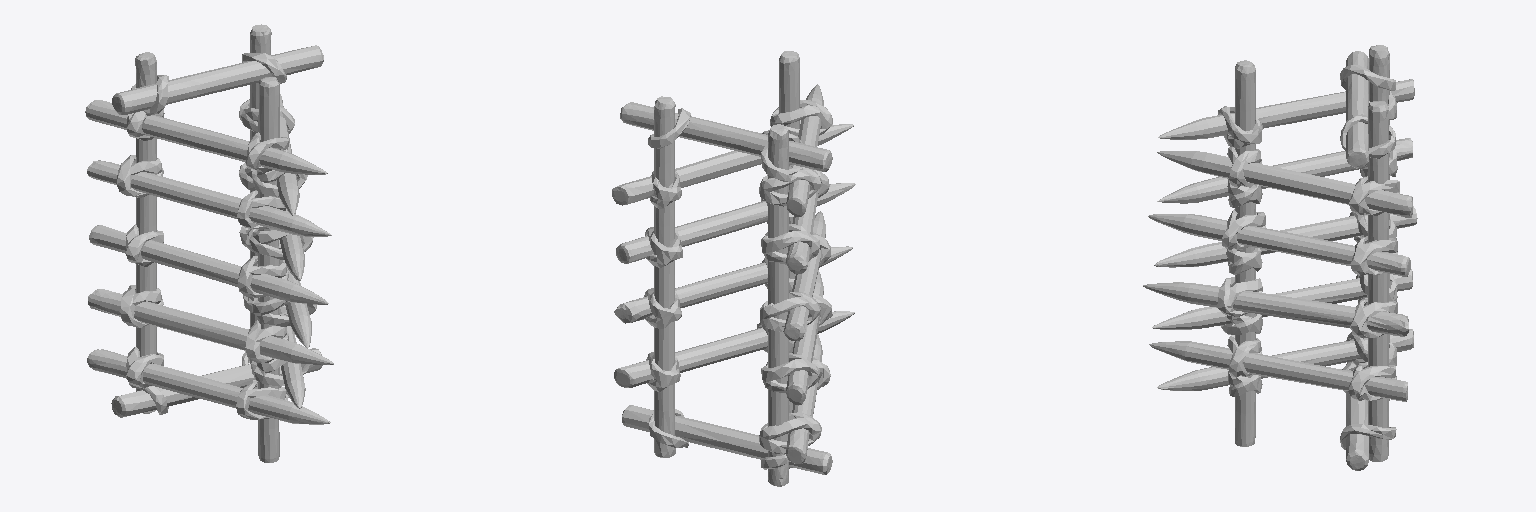
File: barricade.obj
The picture shows the model from 3 angles: view 1: azimuth 30°, elevation 25°; view 2: azimuth 150°, elevation 25°; view 3: azimuth 270°, elevation 25°; orthographic projection.
Parts seen in each view (by area): view 1: object_0, object_1; view 2: object_0, object_1; view 3: object_0, object_1.
Part boxes in pixels (left/top/right/bottom): object_0: left=85, top=24, right=333, bottom=462; object_1: left=116, top=53, right=316, bottom=419; object_0: left=612, top=51, right=855, bottom=486; object_1: left=644, top=100, right=832, bottom=469; object_0: left=1143, top=45, right=1417, bottom=470; object_1: left=1217, top=65, right=1399, bottom=449.
Bounding box in the file's own units: 167 × 291 × 190.